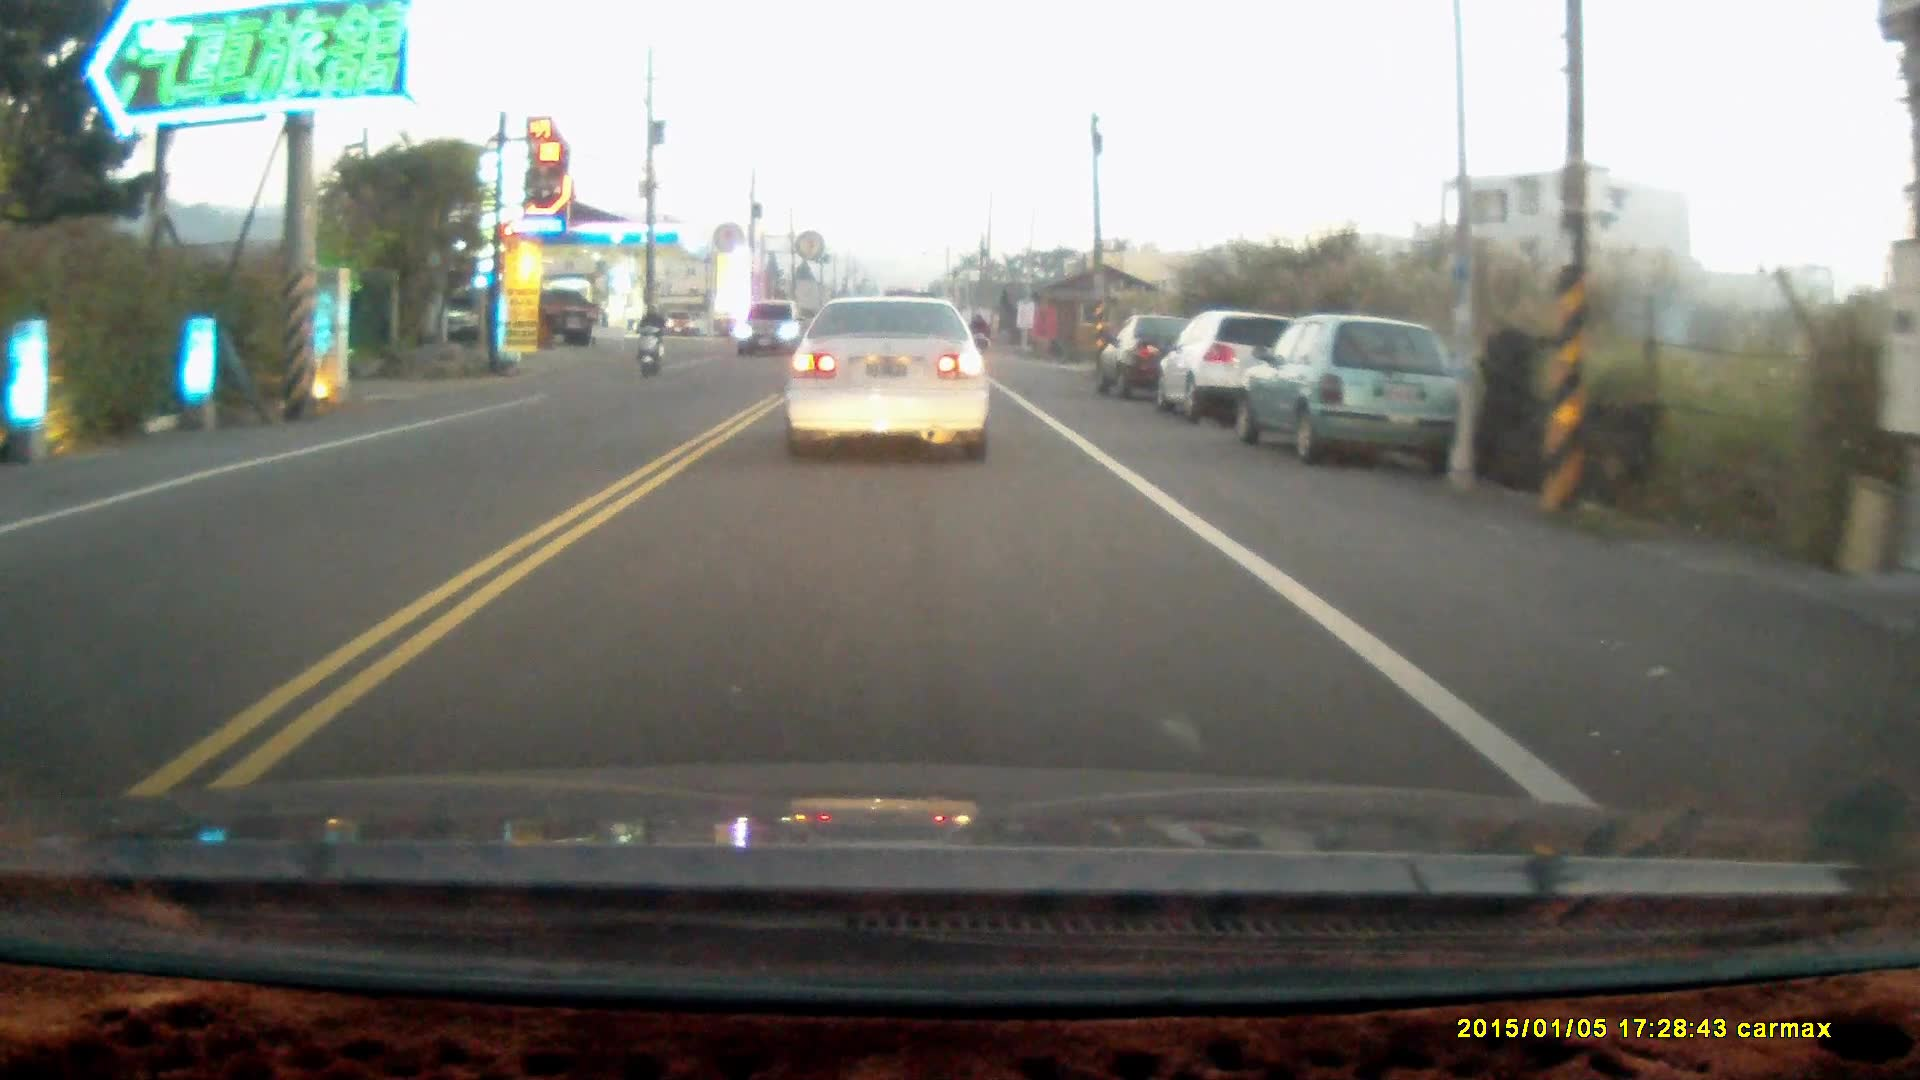rider: (633, 301, 666, 376)
vehicle: (786, 291, 997, 464), (1229, 312, 1464, 466), (1162, 310, 1301, 424), (1101, 314, 1198, 399), (740, 302, 806, 358)
